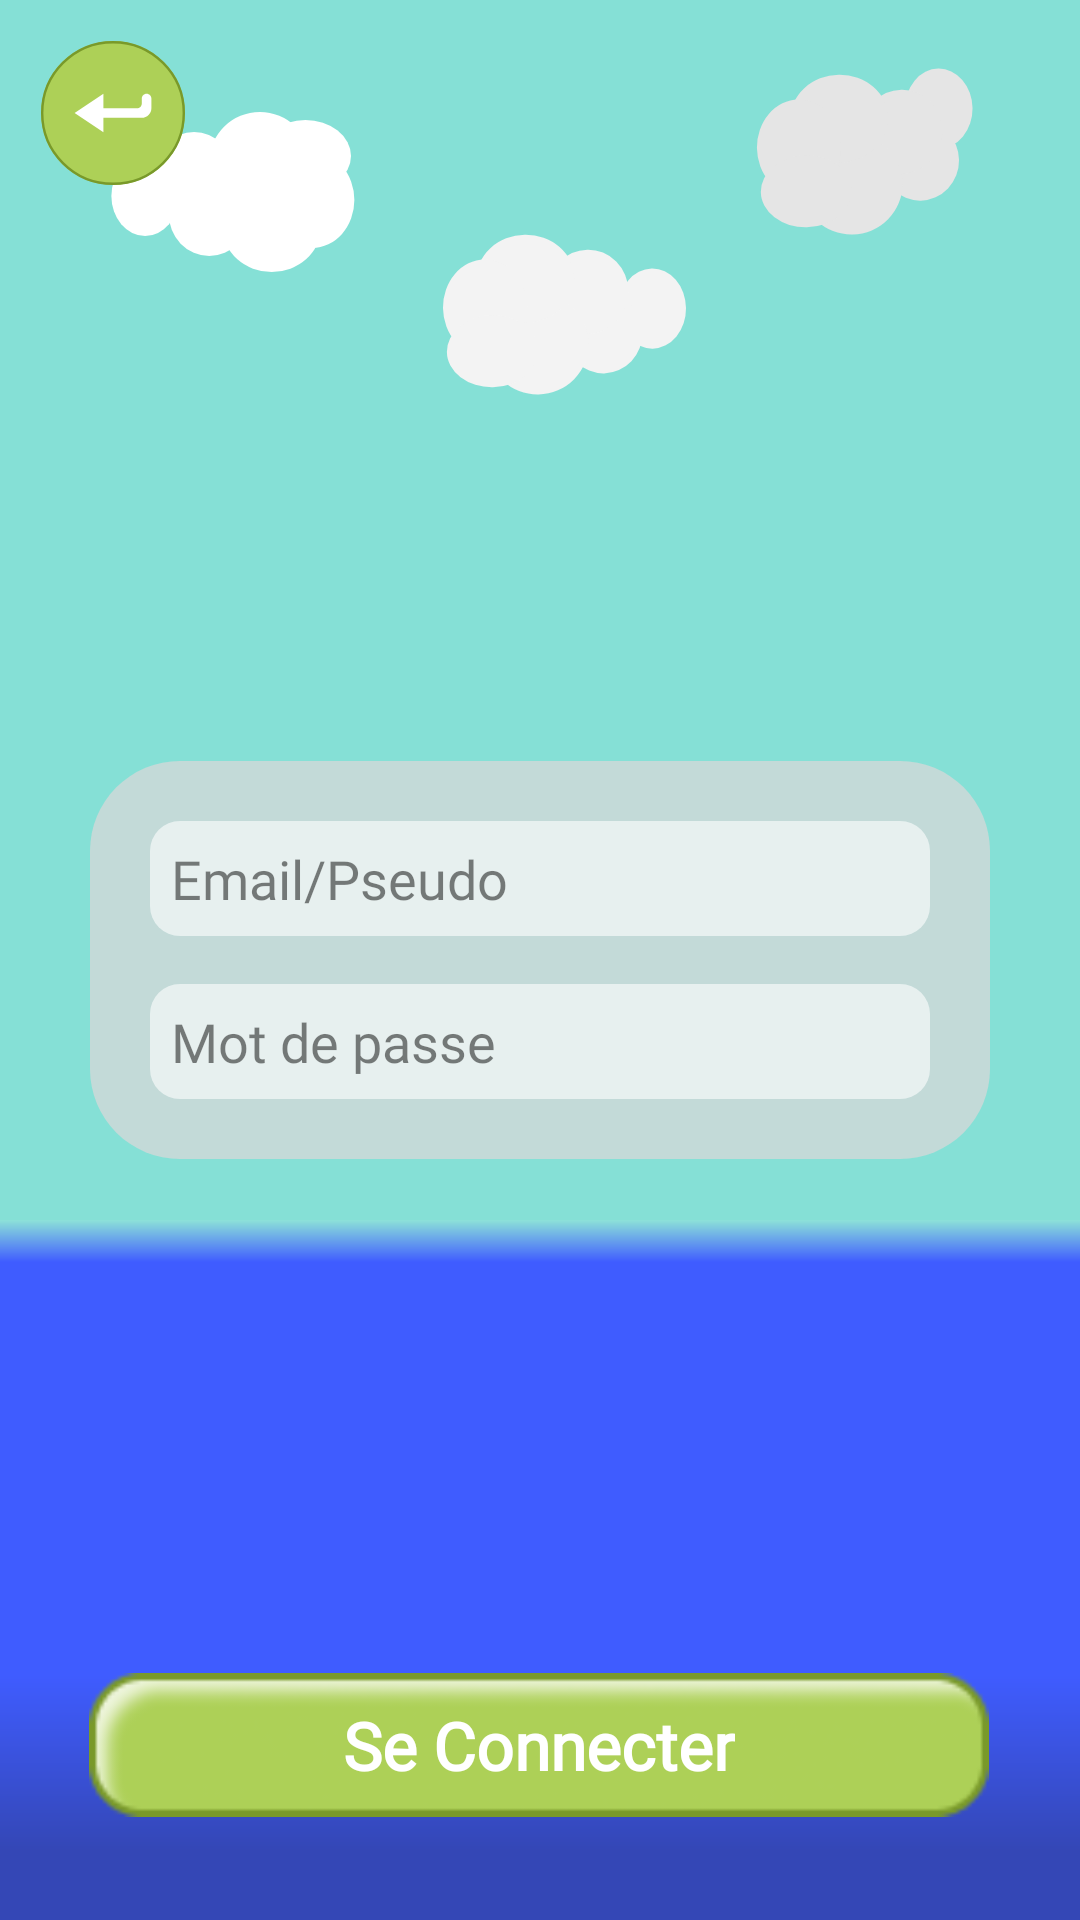

Screen size 1080w x 1920h. Icon name, then its center in pixels as (x,y):
Retour: (113,113)
